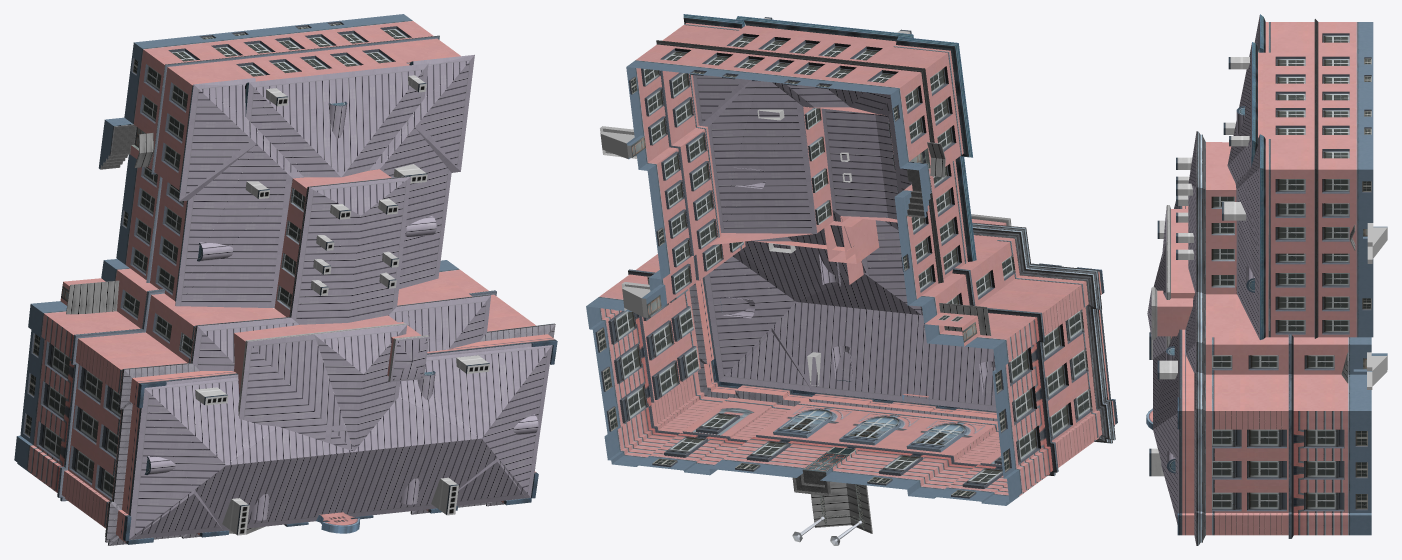
The model's file is Estonia8.obj.
3 views of the same model, side by side, from view 1: azimuth 30°, elevation 25°; view 2: azimuth 150°, elevation 25°; view 3: azimuth 270°, elevation 25° (orthographic). The views are drawn at different scales.
Parts seen in each view (by area): view 1: estonia8; view 2: estonia8; view 3: estonia8.
Boxes of the visible parts, left/top/right/bottom form: estonia8: left=14, top=14, right=557, bottom=545; estonia8: left=586, top=14, right=1117, bottom=545; estonia8: left=1146, top=14, right=1387, bottom=545.
Bounding box in the file's own units: 38.76 × 40.8 × 20.59.
